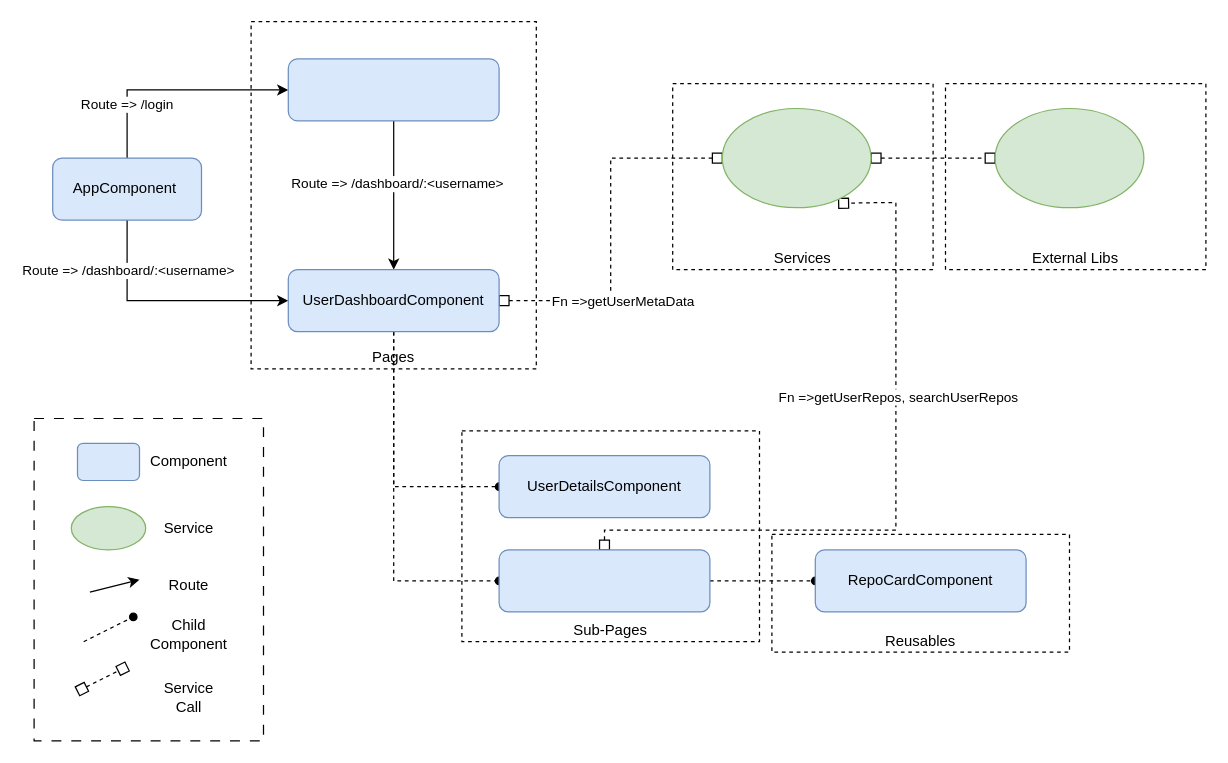
Image size: 1228x763. Some labels were removed from this diagram. Here are the shapes that lost their labels. From the top down, the centre of each, then its label:
pixel 393 89: LoginComponent
pixel 796 157: GithubService
pixel 1069 157: Octokit
pixel 604 580: RepoListComponent
